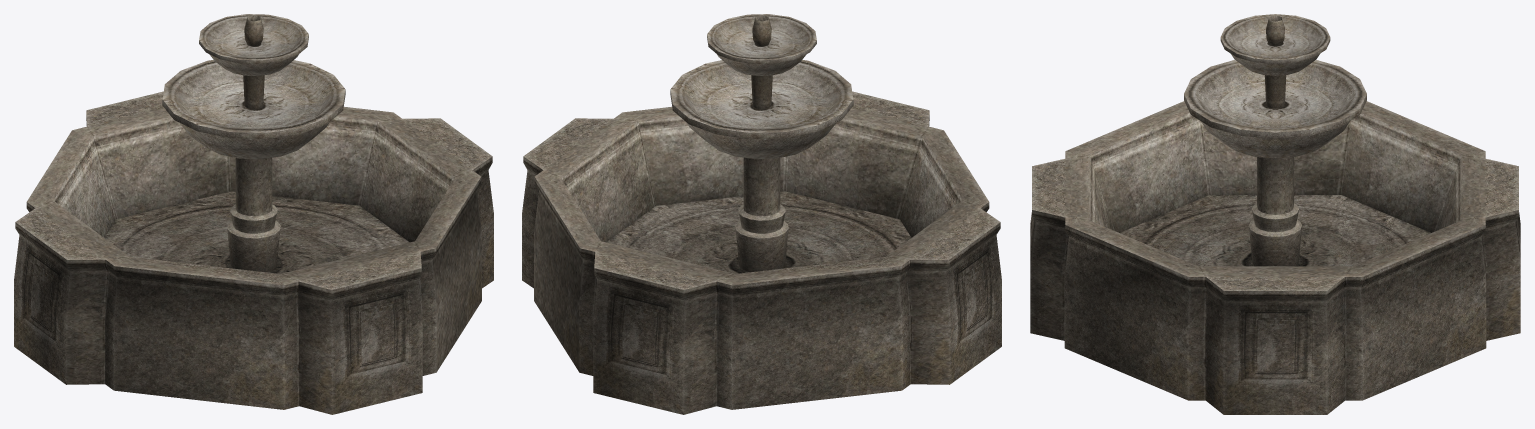
File: Fountain.dae
The picture shows the model from 3 angles, left to right: view 1: azimuth 30°, elevation 25°; view 2: azimuth 150°, elevation 25°; view 3: azimuth 270°, elevation 25°; orthographic projection.
Visible parts, largest first — view 1: Fountain; view 2: Fountain; view 3: Fountain.
Boxes of the visible parts, x1,y1,x2,y2 form: Fountain: (14, 14, 493, 414); Fountain: (522, 14, 1001, 414); Fountain: (1030, 14, 1520, 414).
Bounding box in the file's own units: 2.71 × 1.79 × 2.71.
Materials: 1 (1 with a texture image).
